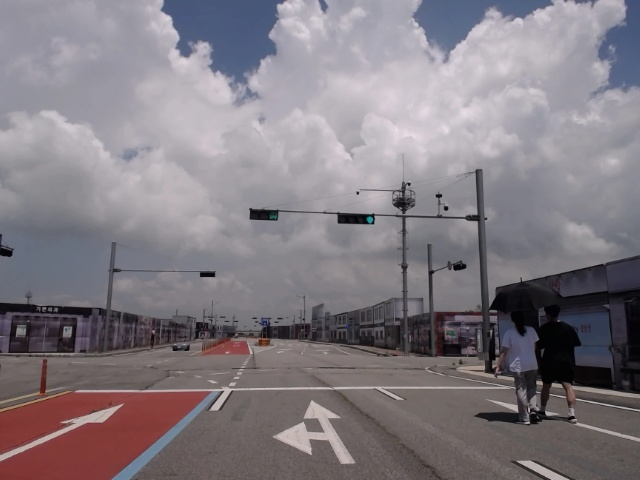straight_green_4: (337, 213, 376, 225)
